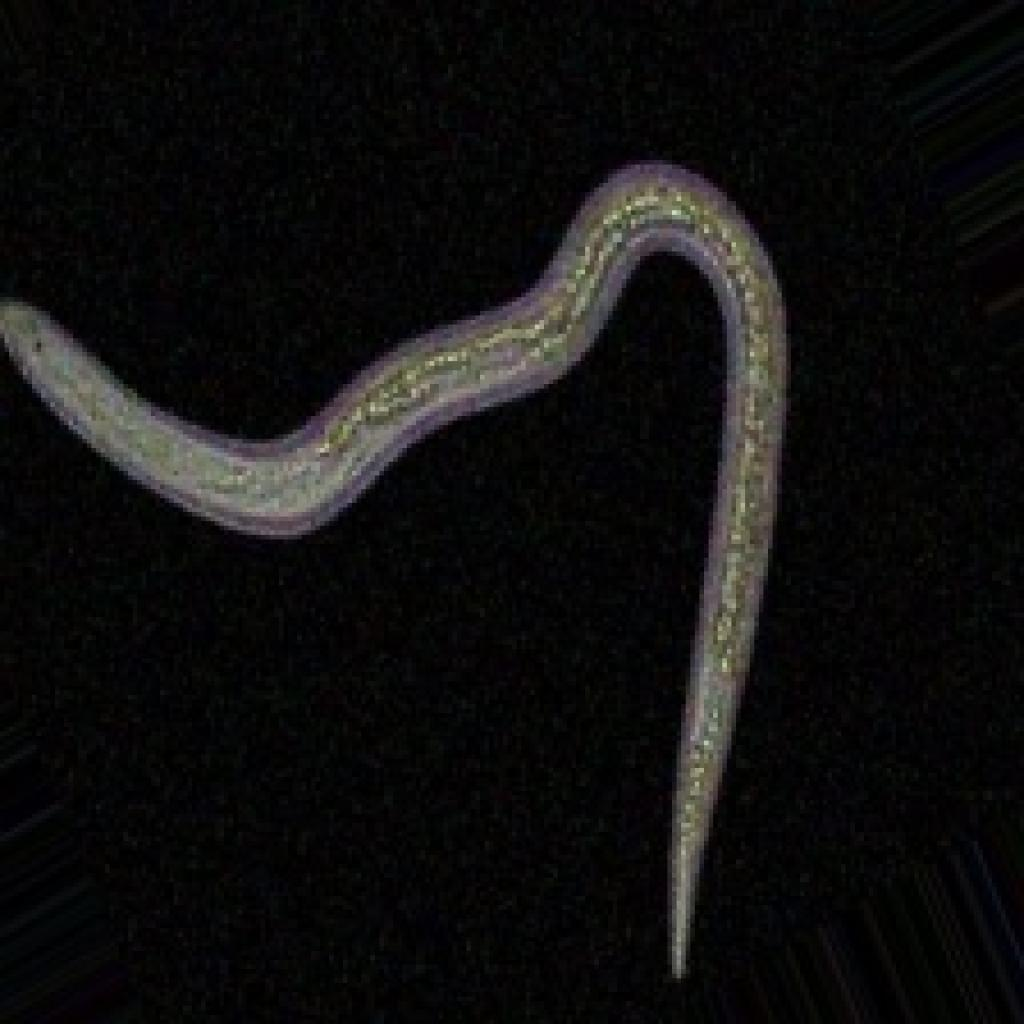Nematode: (0, 151, 795, 983)
